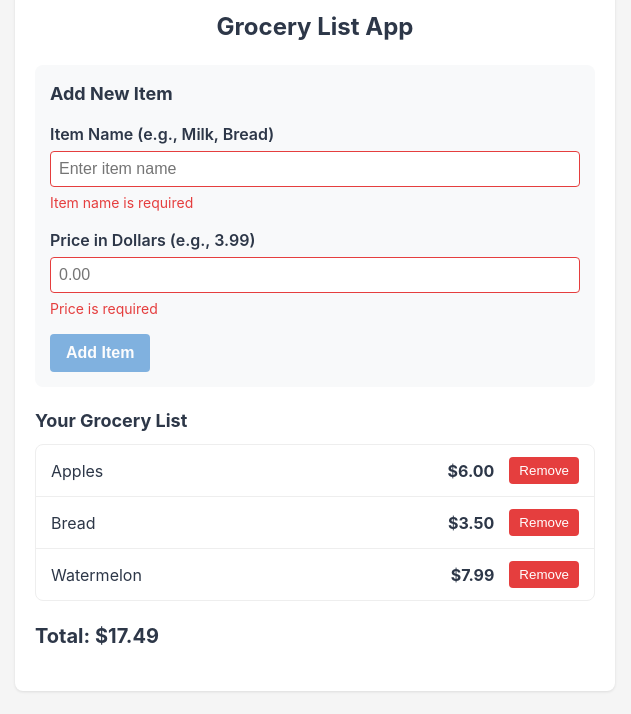
Test: Can add a new grocery item
Note: Add a new item
Type "Milk" into the field labelled "Item Name (e.g., Milk, Bread)" at (315, 169), box [50,151,580,187]
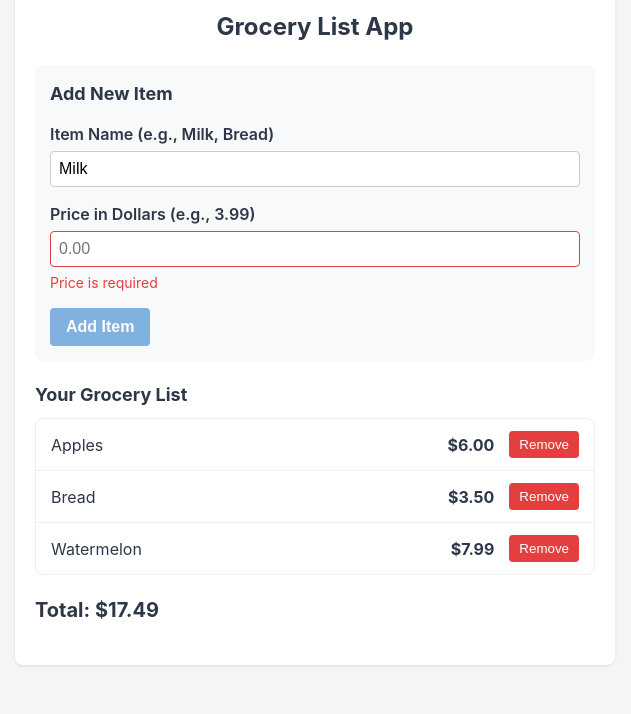
Type "4.50" into the number field labelled "Price in Dollars (e.g., 3.99)" at (315, 249), box [50,231,580,267]
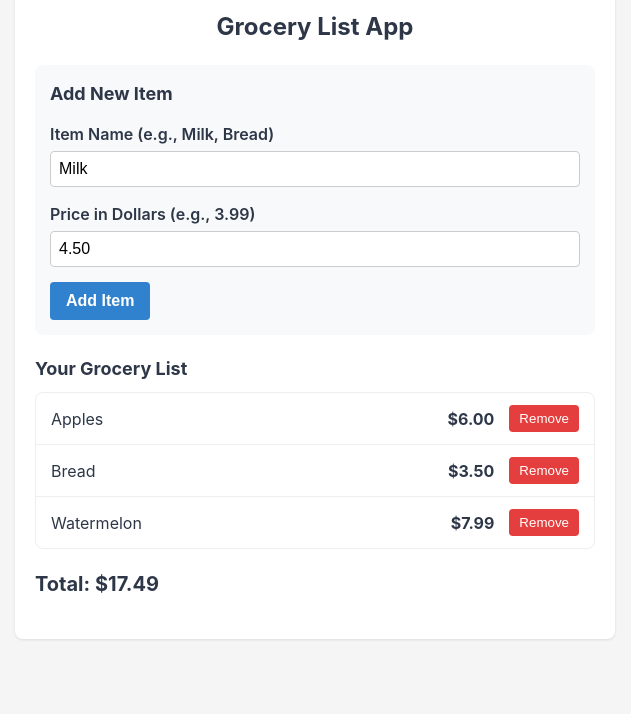
Click the button "Add Item" at (100, 301), box [50,282,150,320]
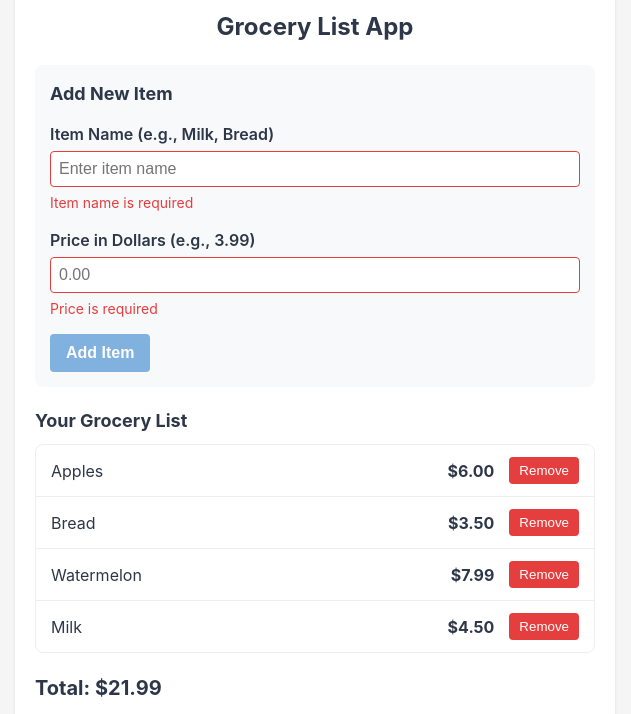
expect the text "Milk" is shown: met, box [51,614,82,638]
expect the text "$4.50" is shown: met, box [448,614,494,638]
